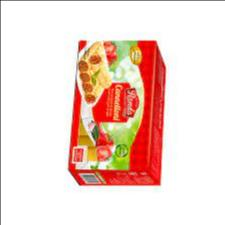Cannelloni: (68, 40, 164, 185)
